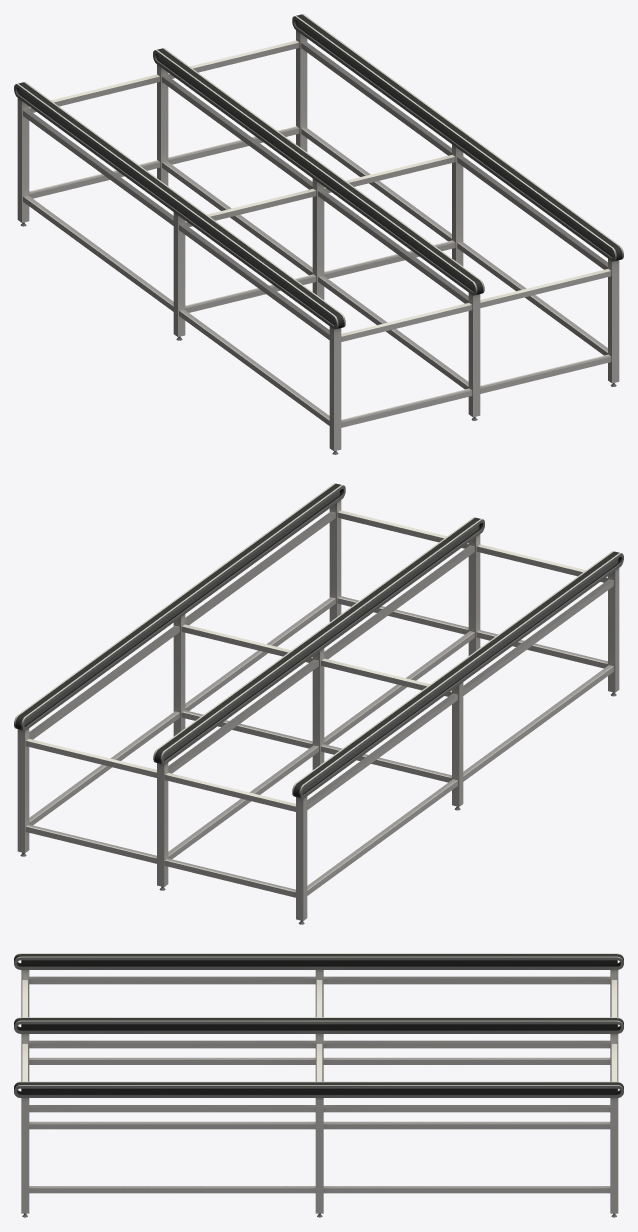
Rendered from machine.serva.3342.obj.
3 views of the same model, one above another, from view 1: azimuth 30°, elevation 25°; view 2: azimuth 150°, elevation 25°; view 3: azimuth 270°, elevation 25° (orthographic). The views are drawn at different scales.
Visible parts, largest first — view 1: Cone01; view 2: Cone01; view 3: Cone01.
Part boxes in pixels (left/top/right/bottom): Cone01: left=14, top=14, right=623, bottom=454; Cone01: left=14, top=483, right=623, bottom=924; Cone01: left=14, top=953, right=623, bottom=1217.
Size of the model in its own units: 196 by 91.75 by 382.
